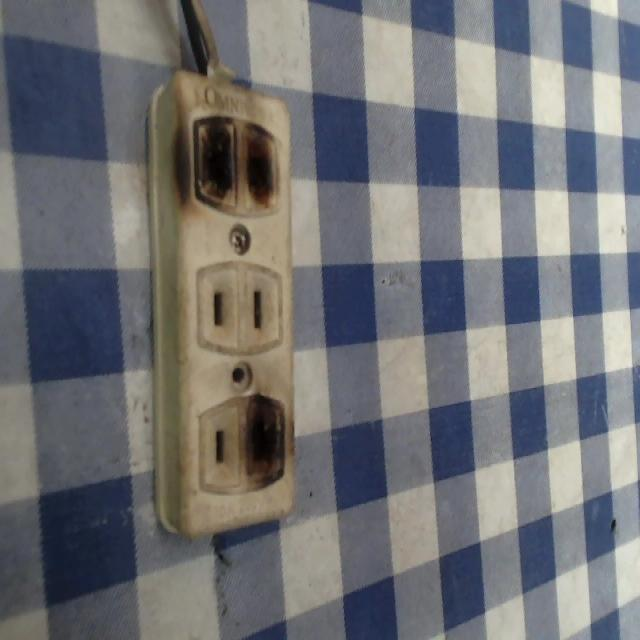-: (166, 106, 285, 222), (234, 385, 299, 492)
